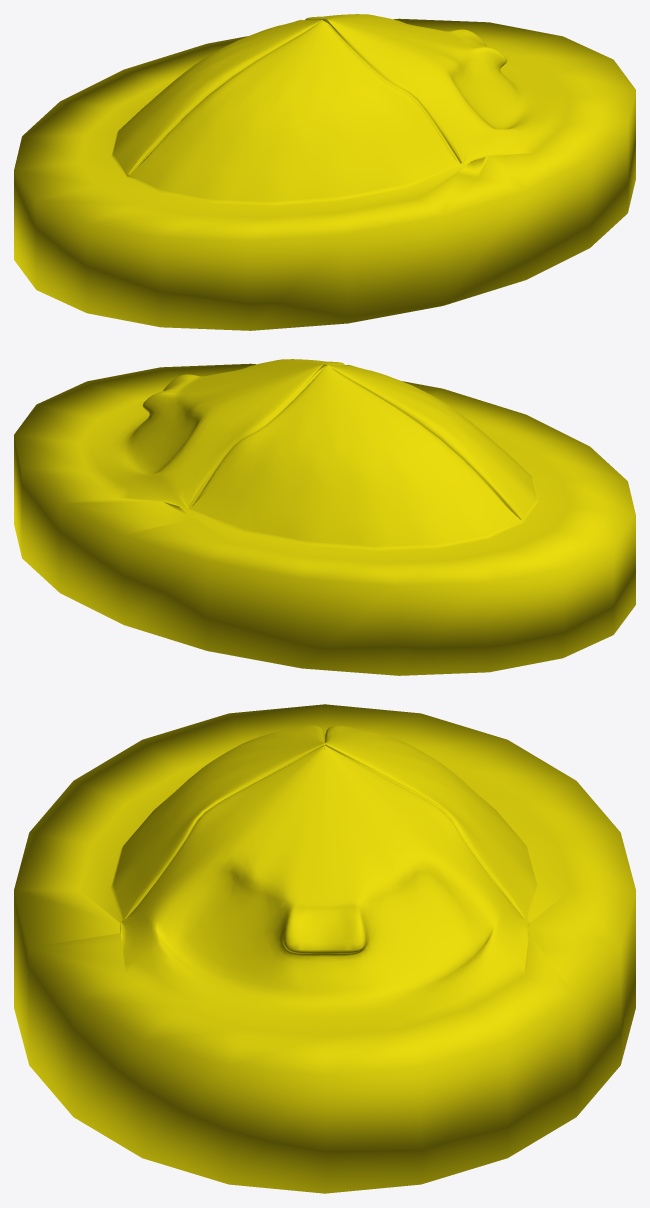
The model's file is Gold Heart Scarab.fbx.
The picture shows the model from 3 angles, top to bottom: view 1: azimuth 30°, elevation 25°; view 2: azimuth 150°, elevation 25°; view 3: azimuth 270°, elevation 25°; orthographic projection. The views are drawn at different scales.
Parts seen in each view (by area): view 1: pCylinder1; view 2: pCylinder1; view 3: pCylinder1.
Part boxes in pixels (x1,y1,x2,y2): pCylinder1: (14,14,635,330); pCylinder1: (14,359,635,675); pCylinder1: (14,704,635,1193).
Bounding box in the file's own units: 6.61 × 2.19 × 4.68.
1 material, 1 textured.
